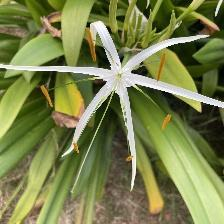spider lily: (1, 19, 224, 193)
